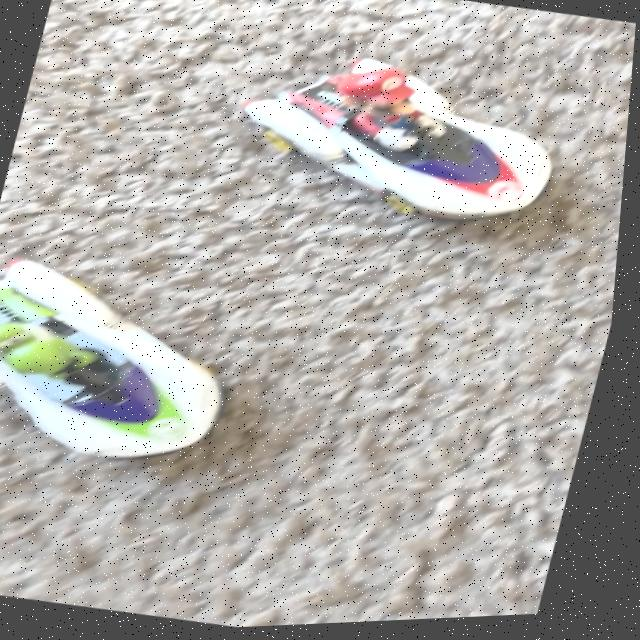mario: (234, 15, 610, 268)
yoshi: (0, 238, 292, 500)
